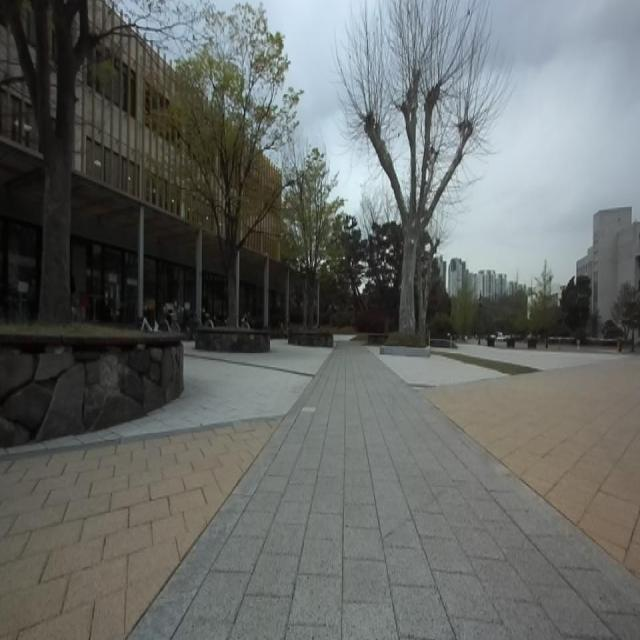sidewalk: (131, 342, 640, 639), (0, 420, 278, 639), (426, 356, 640, 577)
